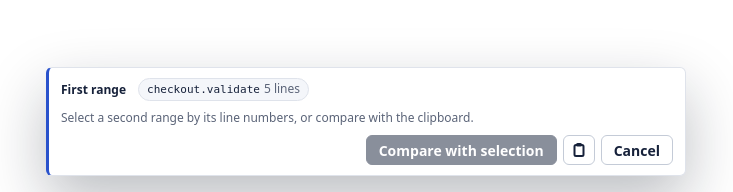
Test: CompareBar › says when the clipboard is empty
What coordinates should you click on to do the following:
click the button named "Compare with clipboard"
I would click on:
 (579, 150)
Its box is [563, 135, 595, 165].
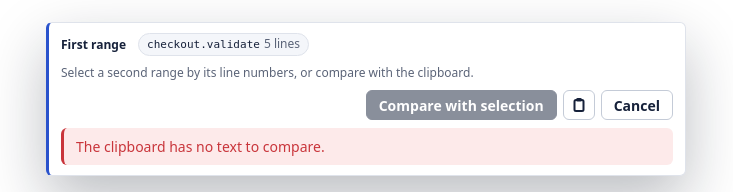
Expected: the message reads "The clipboard has no text to compare.", [76, 137, 325, 156]
